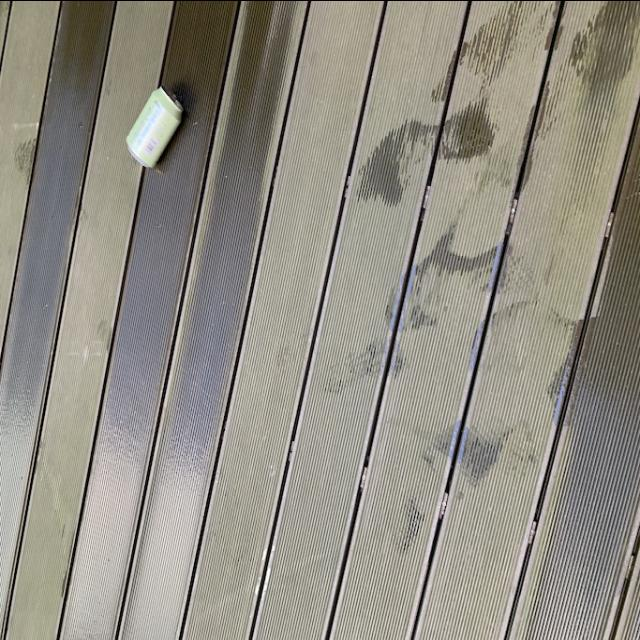Aluminum Can: (126, 78, 186, 164)
